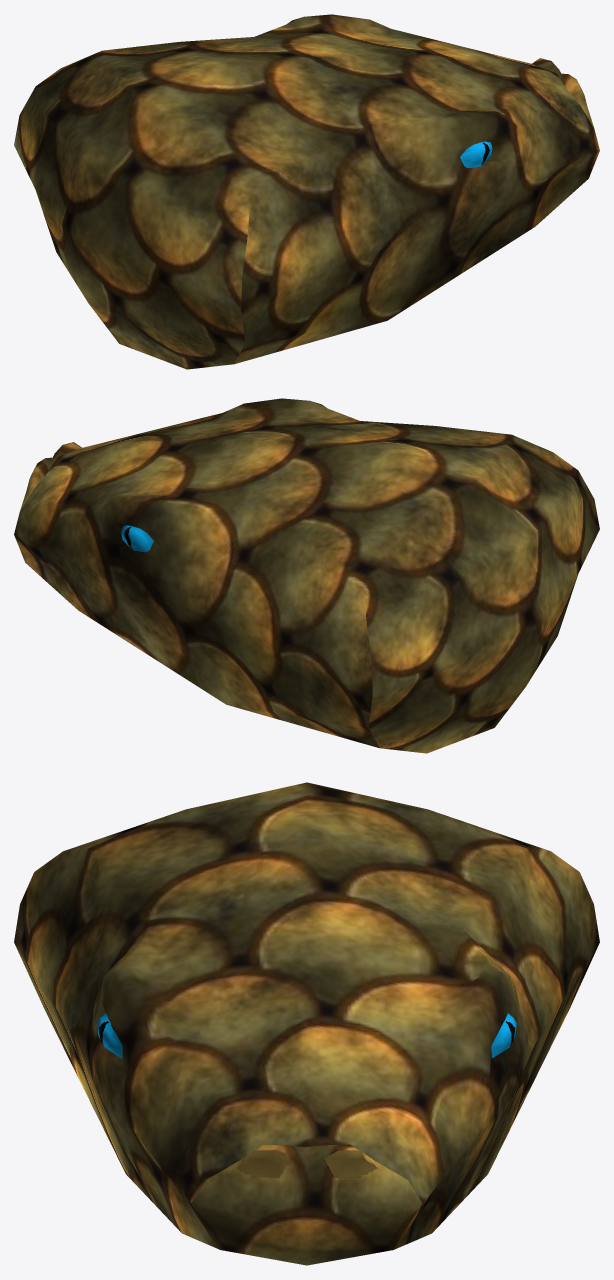
The model's file is snakehead.obj.
3 renders of one model, top to bottom at view 1: azimuth 30°, elevation 25°; view 2: azimuth 150°, elevation 25°; view 3: azimuth 270°, elevation 25°, orthographic. The views are drawn at different scales.
Visible parts, largest first — view 1: Cube3; view 2: Cube3; view 3: Cube3.
Part boxes in pixels (box(x1,y1,x2,y2)): Cube3: box(14, 14, 599, 369); Cube3: box(14, 398, 599, 753); Cube3: box(14, 782, 599, 1265).
Size of the model in its own units: 2.28 by 1.12 by 1.79.
1 material, 1 textured.
